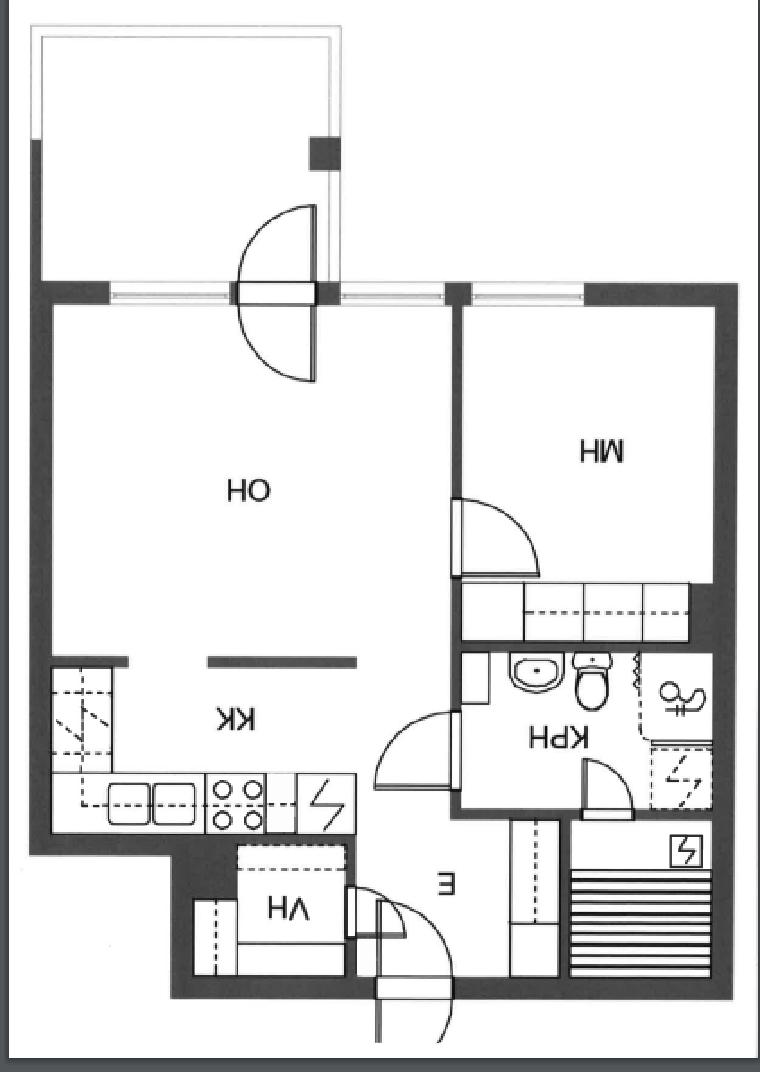door: (238, 191, 326, 392), (366, 900, 452, 1044), (445, 490, 546, 580), (363, 706, 462, 796), (578, 756, 636, 823), (343, 882, 402, 933)
window: (460, 275, 585, 317), (343, 277, 451, 314), (104, 280, 232, 305)
zone: (53, 670, 557, 994), (54, 305, 451, 663), (458, 304, 726, 638), (43, 37, 322, 277), (460, 653, 707, 806), (574, 822, 706, 979)
